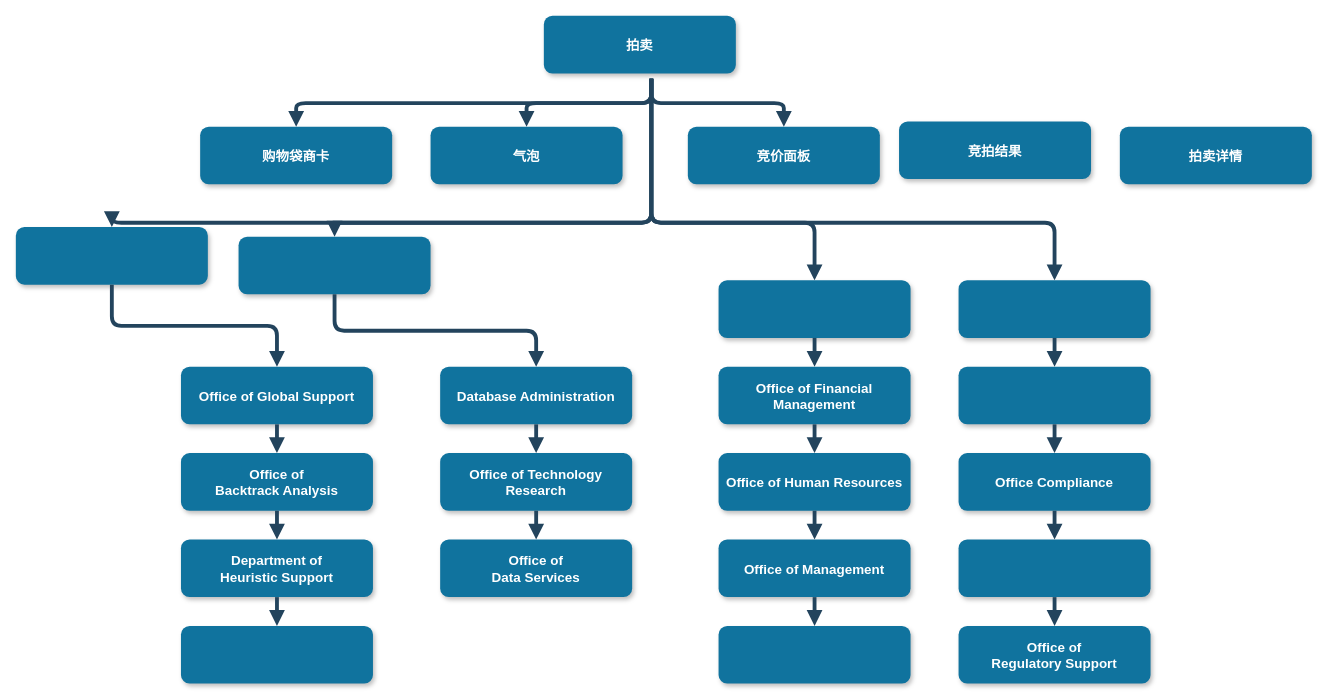
This 1328x699 diagram has some shape labels left out. The shapes that lost their labels are listed below. From the top down, each one's centre as x and y in pixels, then its label:
(x=112, y=257): 商品信息展示
(x=335, y=266): 点击竞价
(x=815, y=310): Management Programs Division
(x=1055, y=310): Regulatory and Enforcement Division
(x=1055, y=396): Office of Regulatory Policy
(x=1055, y=569): Office of Enforcement
(x=277, y=656): Office of Intelligence Support
(x=815, y=656): Office of Training Services
